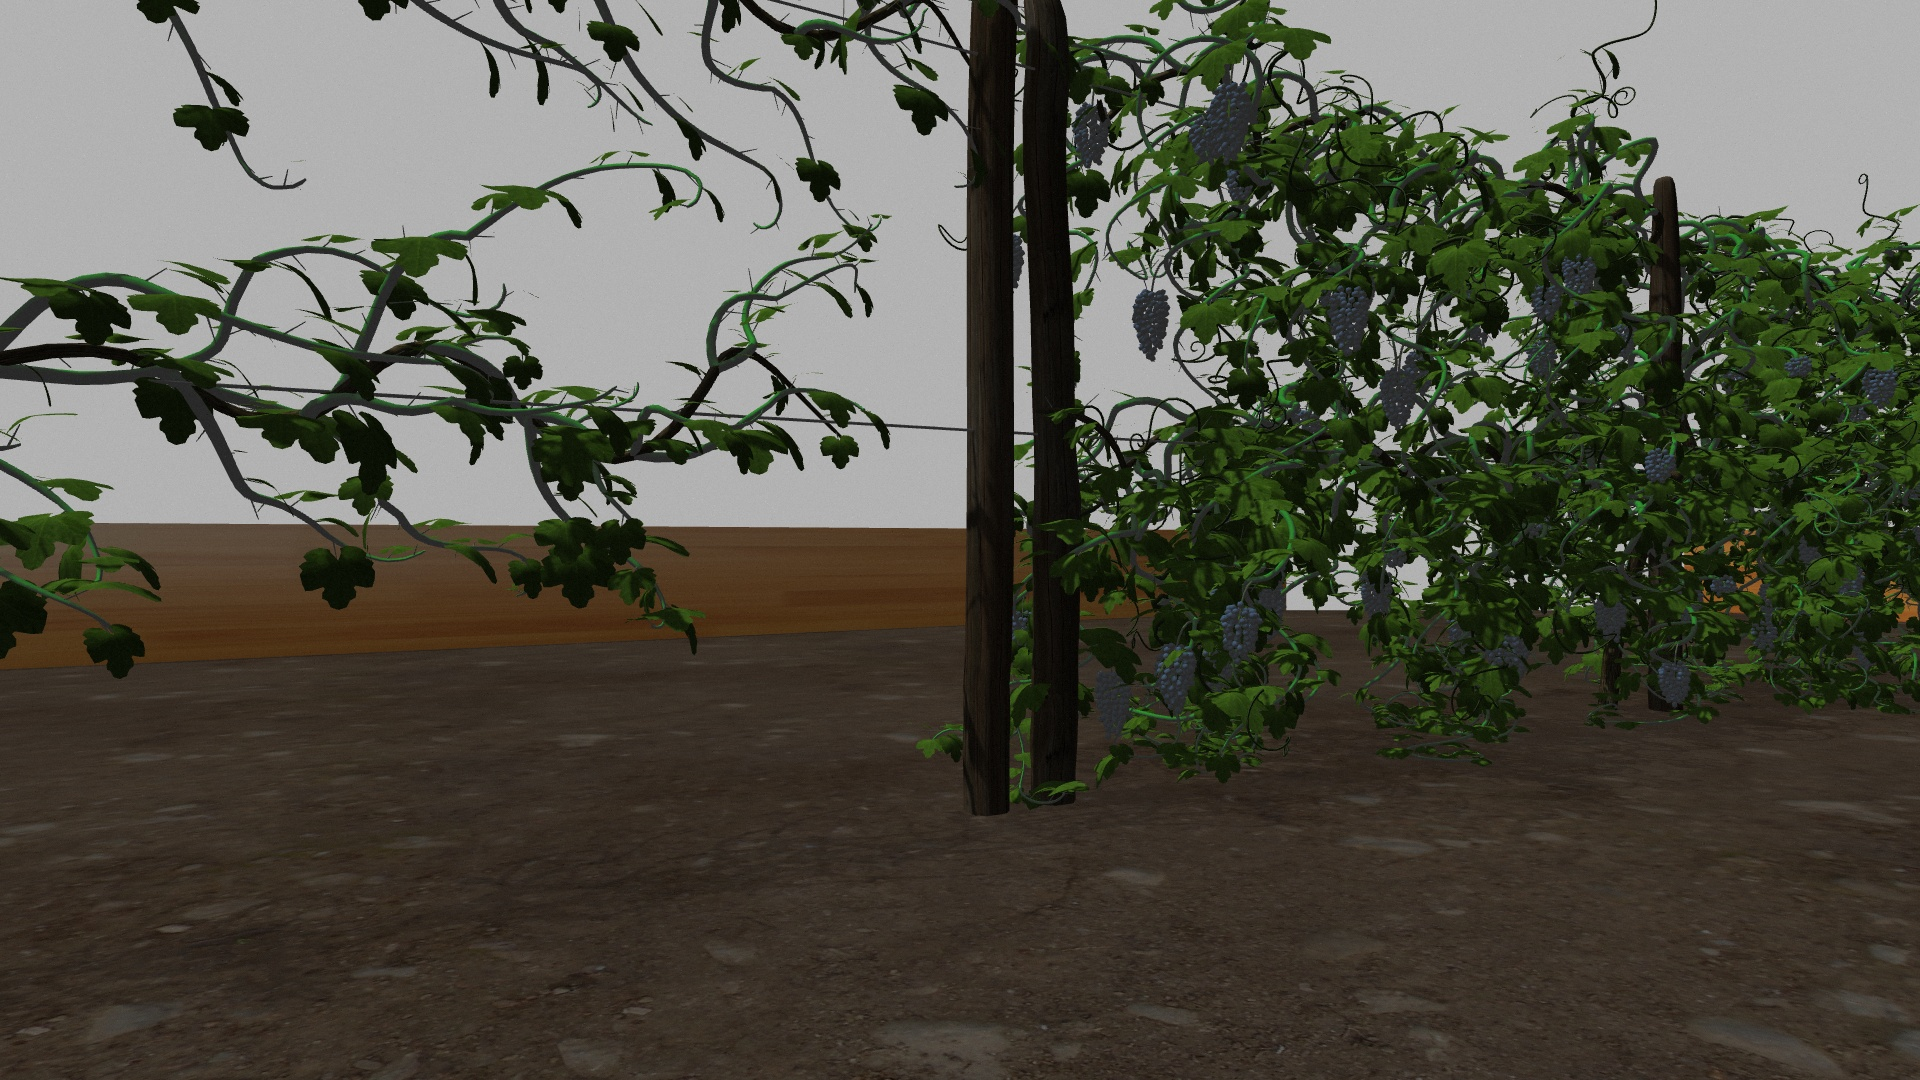grape: (1211, 83, 1253, 160), (1155, 644, 1197, 716), (1071, 102, 1112, 169), (1095, 669, 1131, 742), (1133, 287, 1168, 364), (1329, 287, 1367, 357), (1221, 600, 1261, 666), (1378, 369, 1419, 429), (1592, 596, 1629, 646), (1658, 662, 1695, 707), (1491, 633, 1530, 675), (1360, 571, 1393, 617), (1563, 253, 1597, 297), (1861, 369, 1899, 407), (1188, 117, 1218, 161), (1530, 284, 1563, 323), (1643, 447, 1677, 484), (1528, 334, 1557, 377), (1226, 169, 1253, 204), (1750, 618, 1778, 651), (1784, 353, 1813, 378), (1710, 574, 1735, 597)
